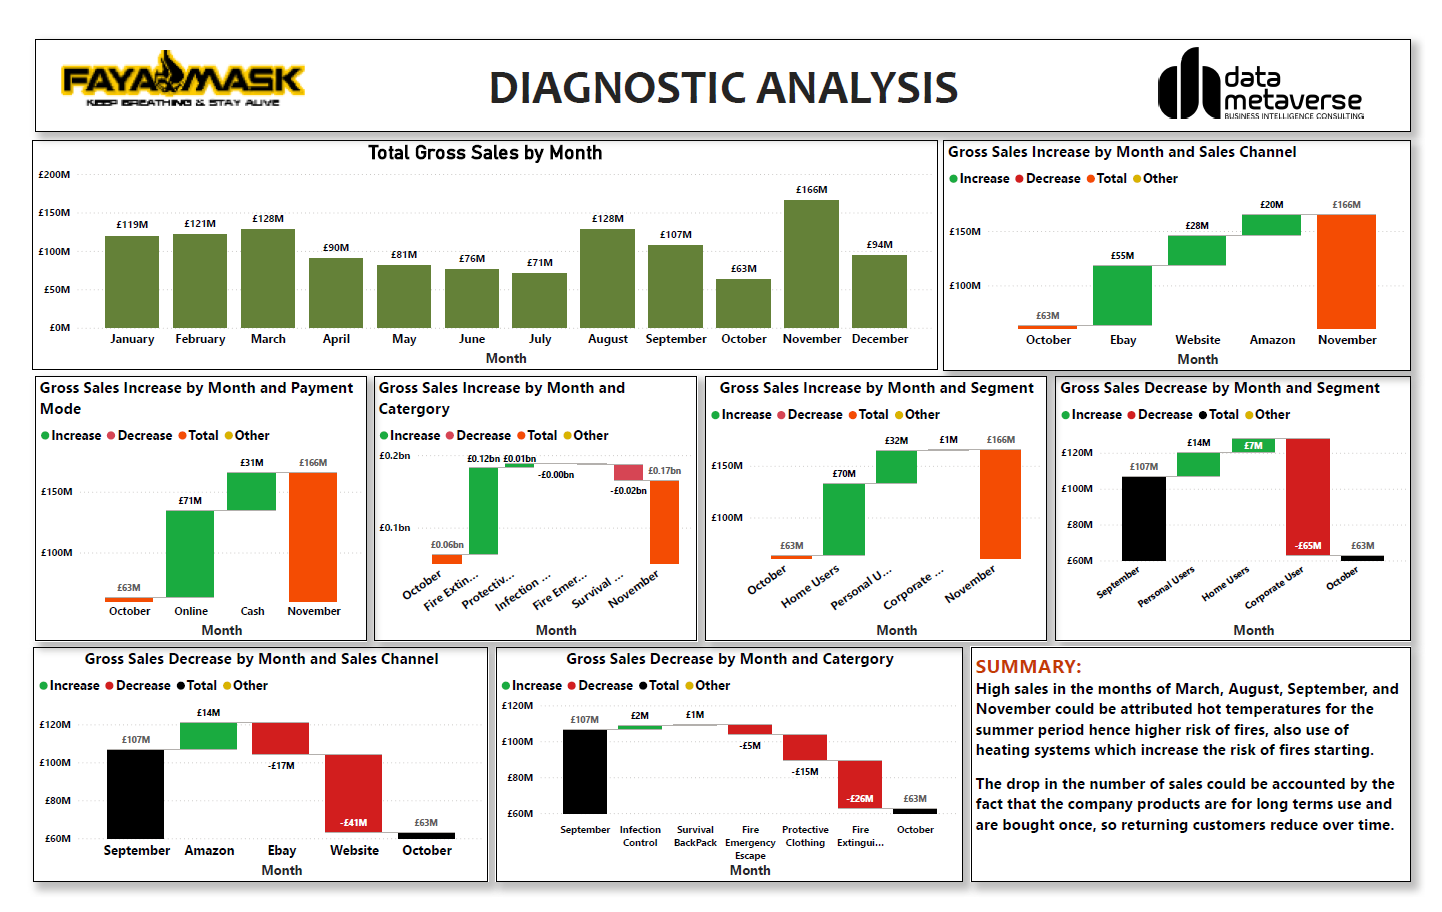

Layout of this report page (visuals, bound fields, positions):
{"tool":"powerbi","page":{"name":"Sales Diagnostic Analysis","canvas":[1730,1080],"ordinal":5},"visuals":[{"type":"clusteredColumnChart","title":"Total Gross Sales by Month","fields":{"Category":["Faya Mask data.Date.Variation.Date Hierarchy.Month"],"Y":["Sum(Faya Mask data.Gross Sales)"]},"box":[15.9,148.1,1114,282.5],"z":0},{"type":"waterfallChart","title":"Gross Sales Decrease by Month and Segment","fields":{"Category":["Faya Mask data.Date.Variation.Date Hierarchy.Month"],"Breakdown":["Faya Mask data.Segment"],"Y":["Sum(Faya Mask data.Gross Sales)"]},"box":[1275.5,438.7,436.3,326.6],"z":1000},{"type":"waterfallChart","title":"Gross Sales Decrease by Month and Sales Channel","fields":{"Category":["Faya Mask data.Date.Variation.Date Hierarchy.Month"],"Breakdown":["Faya Mask data.Sales Channel"],"Y":["Sum(Faya Mask data.Gross Sales)"]},"box":[16.7,772.5,560.3,288.5],"z":2000},{"type":"waterfallChart","title":" Gross Sales Decrease by Month and Catergory","fields":{"Category":["Faya Mask data.Date.Variation.Date Hierarchy.Month"],"Breakdown":["Faya Mask data.Catergory"],"Y":["Sum(Faya Mask data.Gross Sales)"]},"box":[586.5,772.5,574.6,288.5],"z":3000},{"type":"waterfallChart","title":" Gross Sales Increase by Month and Sales Channel","fields":{"Category":["Faya Mask data.Date.Variation.Date Hierarchy.Month"],"Breakdown":["Faya Mask data.Sales Channel"],"Y":["Sum(Faya Mask data.Gross Sales)"]},"box":[1137.2,147.8,574.6,283.7],"z":4000},{"type":"waterfallChart","title":"Gross Sales Increase by Month and Catergory","fields":{"Category":["Faya Mask data.Date.Variation.Date Hierarchy.Month"],"Breakdown":["Faya Mask data.Catergory"],"Y":["Sum(Faya Mask data.Gross Sales)"]},"box":[436.3,438.7,398.1,326.6],"z":5000},{"type":"waterfallChart","title":"Gross Sales Increase by Month and Segment","fields":{"Category":["Faya Mask data.Date.Variation.Date Hierarchy.Month"],"Breakdown":["Faya Mask data.Segment"],"Y":["Sum(Faya Mask data.Gross Sales)"]},"box":[844,438.7,419.6,326.6],"z":6000},{"type":"waterfallChart","title":"Gross Sales Increase by Month and Payment Mode","fields":{"Category":["Faya Mask data.Date.Variation.Date Hierarchy.Month"],"Breakdown":["Faya Mask data.Payment Mode"],"Y":["Sum(Faya Mask data.Gross Sales)"]},"box":[19.1,438.7,407.7,326.6],"z":7000},{"type":"textbox","box":[1170.6,772.5,541.2,288.5],"z":8000},{"type":"textbox","title":"SALES ANALYSIS","box":[19.1,23.8,1692.7,114.4],"z":9000},{"type":"image","box":[19.1,33.4,355.2,93],"z":10000},{"type":"image","box":[1366.1,28.6,324.2,97.7],"z":11000}]}

Visuals, with their boxes in screenshot pixels (x1, y1, x2, y2), scaled from the page's 1730x1080 canvas onto the 1442x912 screenshot:
"Total Gross Sales by Month" clusteredColumnChart: box=[13, 125, 942, 364]
"Gross Sales Decrease by Month and Segment" waterfallChart: box=[1063, 370, 1427, 646]
"Gross Sales Decrease by Month and Sales Channel" waterfallChart: box=[14, 652, 481, 896]
" Gross Sales Decrease by Month and Catergory" waterfallChart: box=[489, 652, 968, 896]
" Gross Sales Increase by Month and Sales Channel" waterfallChart: box=[948, 125, 1427, 364]
"Gross Sales Increase by Month and Catergory" waterfallChart: box=[364, 370, 695, 646]
"Gross Sales Increase by Month and Segment" waterfallChart: box=[703, 370, 1053, 646]
"Gross Sales Increase by Month and Payment Mode" waterfallChart: box=[16, 370, 356, 646]
textbox: box=[976, 652, 1427, 896]
"SALES ANALYSIS" textbox: box=[16, 20, 1427, 117]
image: box=[16, 28, 312, 107]
image: box=[1139, 24, 1409, 107]
